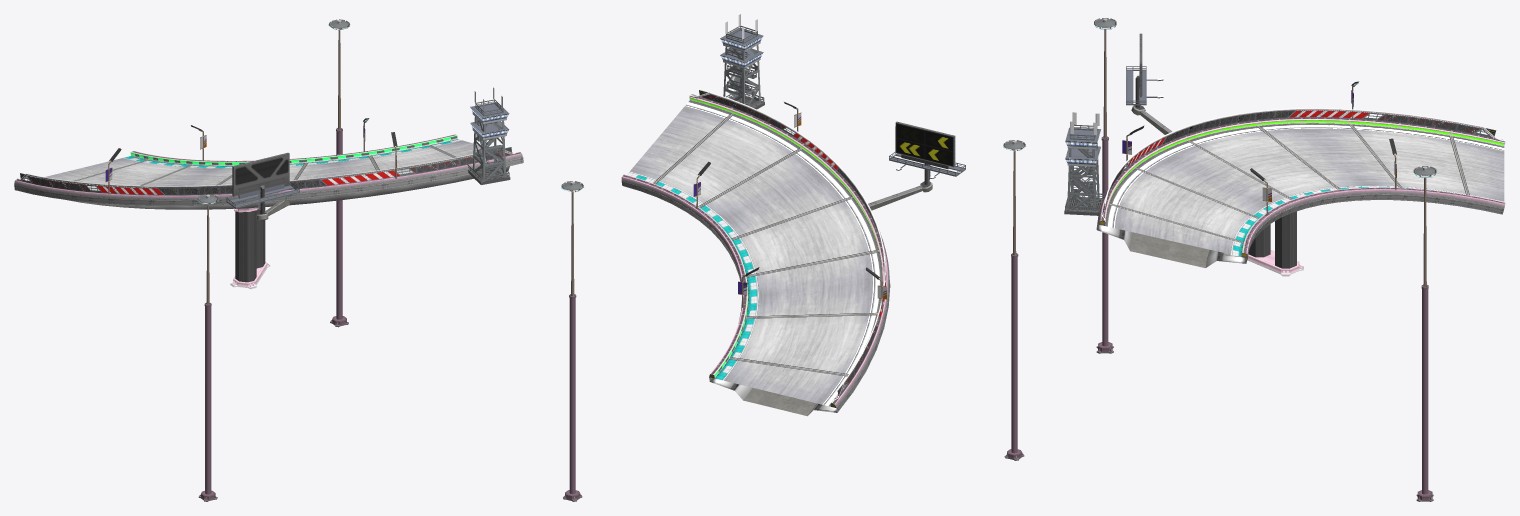
The model's file is T17 - Direction.fbx.
The picture shows the model from 3 angles, left to right: view 1: azimuth 30°, elevation 25°; view 2: azimuth 150°, elevation 25°; view 3: azimuth 270°, elevation 25°; orthographic projection. The views are drawn at different scales.
Visible parts, largest first — view 1: standard_road, standard_bridge, standard_arrow_left, wall_drift, prop_billboard_left, pro_stewards_tower, support_pylon, support_pylon_2, support_pylon_1; view 2: standard_road, wall_drift, prop_billboard_left, pro_stewards_tower, standard_bridge, standard_arrow_left, banking_middle_lines, support_pylon_1, support_pylon_2; view 3: standard_road, wall_drift, standard_arrow_left, standard_bridge, pro_stewards_tower, support_pylon, banking_middle_lines, support_pylon_1, support_pylon_2, prop_billboard_left, pro_floodlight_overhead_2, pro_floodlight_overhead_2_1 (+2 smaller).
Boxes of the visible parts, x1=… form: standard_road: x1=40, y1=139, x2=511, y2=190; standard_bridge: x1=14, y1=157, x2=523, y2=209; standard_arrow_left: x1=16, y1=147, x2=520, y2=195; wall_drift: x1=14, y1=134, x2=522, y2=200; prop_billboard_left: x1=226, y1=152, x2=299, y2=214; pro_stewards_tower: x1=470, y1=87, x2=509, y2=180; support_pylon: x1=235, y1=207, x2=265, y2=282; support_pylon_2: x1=205, y1=306, x2=211, y2=494; support_pylon_1: x1=336, y1=131, x2=342, y2=319; standard_road: x1=627, y1=100, x2=882, y2=406; wall_drift: x1=621, y1=94, x2=889, y2=407; prop_billboard_left: x1=889, y1=121, x2=965, y2=184; pro_stewards_tower: x1=720, y1=14, x2=763, y2=105; standard_bridge: x1=621, y1=181, x2=890, y2=416; standard_arrow_left: x1=689, y1=90, x2=886, y2=403; banking_middle_lines: x1=657, y1=118, x2=869, y2=375; support_pylon_1: x1=569, y1=298, x2=575, y2=494; support_pylon_2: x1=1011, y1=257, x2=1017, y2=453; standard_road: x1=1104, y1=123, x2=1504, y2=256; wall_drift: x1=1098, y1=117, x2=1505, y2=258; standard_arrow_left: x1=1101, y1=108, x2=1505, y2=221; standard_bridge: x1=1096, y1=194, x2=1503, y2=267; pro_stewards_tower: x1=1065, y1=112, x2=1101, y2=210; support_pylon: x1=1248, y1=211, x2=1296, y2=268; banking_middle_lines: x1=1119, y1=129, x2=1469, y2=240; support_pylon_1: x1=1422, y1=289, x2=1428, y2=494; support_pylon_2: x1=1102, y1=140, x2=1108, y2=346; prop_billboard_left: x1=1126, y1=33, x2=1163, y2=108; pro_floodlight_overhead_2: x1=1413, y1=166, x2=1436, y2=286; pro_floodlight_overhead_2_1: x1=1094, y1=18, x2=1116, y2=138.
Bounding box in the file's own units: 11881 × 12065 × 12785.
